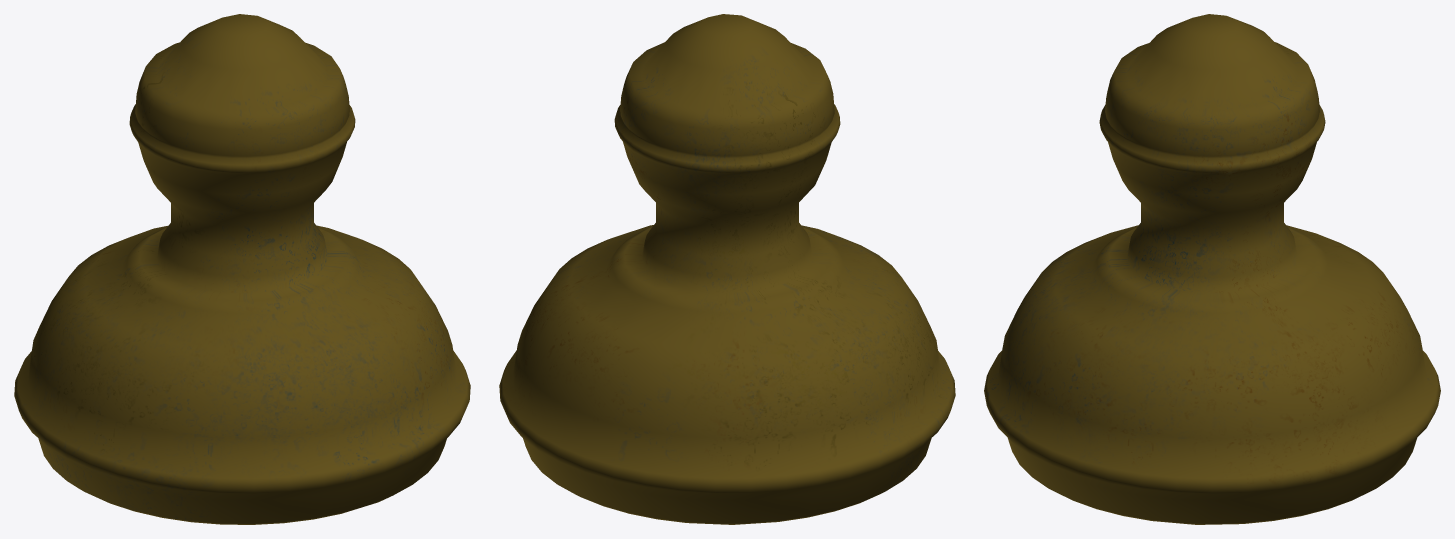
The model's file is Base_Lamp.fbx.
The picture shows the model from 3 angles, left to right: view 1: azimuth 30°, elevation 25°; view 2: azimuth 150°, elevation 25°; view 3: azimuth 270°, elevation 25°; orthographic projection.
Visible parts, largest first — view 1: BaseLamp_LowPoli; view 2: BaseLamp_LowPoli; view 3: BaseLamp_LowPoli.
Part boxes in pixels (x1,y1,x2,y2): BaseLamp_LowPoli: (14, 14, 470, 524); BaseLamp_LowPoli: (499, 14, 955, 524); BaseLamp_LowPoli: (984, 14, 1440, 524).
Bounding box in the file's own units: 14.75 × 14.83 × 14.75.
